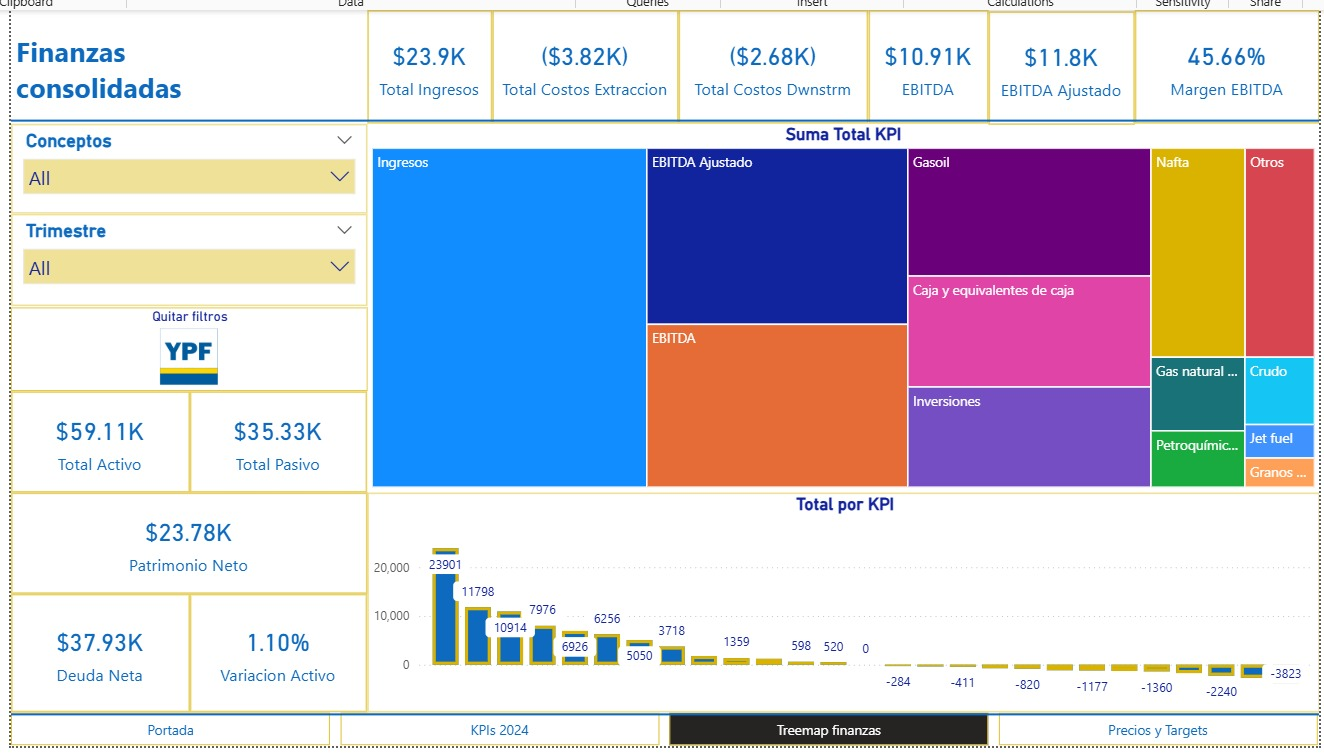

This screenshot's page, from the dashboard's own definition file:
{"tool":"powerbi","page":{"name":"Treemap finanzas","canvas":[1280,720],"ordinal":2},"visuals":[{"type":"pageNavigator","box":[0,687.4,1280,32.6],"z":0},{"type":"textbox","box":[0,0,205.4,111.3],"z":1000},{"type":"treemap","title":"Suma Total KPI","fields":{"Group":["Cifras finacieras consolidadas.Resumen Consolidado Resultados"],"Values":["Sum(Cifras finacieras consolidadas.Value)"]},"box":[348.5,111.3,931.8,360.7],"z":2000},{"type":"card","fields":{"Values":["Measures (2).Total Ingresos"]},"box":[348.5,0,122.3,111.3],"z":3000},{"type":"card","fields":{"Values":["Measures (2).Total Costos"]},"box":[470.8,0,182.2,111.3],"z":4000},{"type":"card","fields":{"Values":["Measures (2).Total Costos Downstream"]},"box":[653,0,185.9,111.3],"z":5000},{"type":"card","fields":{"Values":["Measures (2).EBITDA"]},"box":[838.9,0,117.4,111.3],"z":6000},{"type":"clusteredColumnChart","title":"Total por KPI","fields":{"Category":["Cifras finacieras consolidadas.Resumen Consolidado Resultados"],"Y":["Sum(Cifras finacieras consolidadas.Value)"]},"box":[358.3,472,922,215.2],"z":7000},{"type":"card","fields":{"Values":["Balance General.Total Activo"]},"box":[0,373,174.9,99],"z":8000},{"type":"card","fields":{"Values":["Balance General.Total Pasivo"]},"box":[174.9,373,173.6,99],"z":9000},{"type":"card","fields":{"Values":["Balance General.Patrimonio Neto"]},"box":[0,472,348.5,99],"z":10000},{"type":"card","fields":{"Values":["Measures (2).Deuda Neta"]},"box":[0,571.1,174.9,116.2],"z":11000},{"type":"card","fields":{"Values":["Balance General.Variación Activo 1T25 vs 4T24 %"]},"box":[174.9,571.1,173.6,116.2],"z":12000},{"type":"card","fields":{"Values":["Measures (2).Margen EBITDA %"]},"box":[1099.3,0,181,111.3],"z":13000},{"type":"card","fields":{"Values":["Measures (2).EBITDA Ajustado"]},"box":[956.3,1.2,143.1,111.3],"z":14000},{"type":"slicer","fields":{"Values":["Cifras finacieras consolidadas.Resumen Consolidado Resultados"]},"box":[0,111.3,348.5,88],"z":15000},{"type":"slicer","fields":{"Values":["Cifras finacieras consolidadas.Periodo"]},"box":[0,199.3,348.5,90.5],"z":16000},{"type":"image","title":"Quitar filtros","box":[0,291,348.5,81.9],"z":17000},{"type":"shape","box":[0,94.2,1280.3,28.1],"z":17001},{"type":"shape","box":[0,675,1280.3,28.1],"z":17002}]}

Visuals, with their boxes on the page's 1280x720 design canvas (x1, y1, x2, y2). These are canvas units, not pixel positions in the 1324x754 screenshot, which may show the page scaled, cropped or inside an application window:
pageNavigator: (x1=0, y1=687, x2=1280, y2=720)
textbox: (x1=0, y1=0, x2=205, y2=111)
"Suma Total KPI" treemap: (x1=348, y1=111, x2=1280, y2=472)
card - Measures (2).Total Ingresos: (x1=348, y1=0, x2=471, y2=111)
card - Measures (2).Total Costos: (x1=471, y1=0, x2=653, y2=111)
card - Measures (2).Total Costos Downstream: (x1=653, y1=0, x2=839, y2=111)
card - Measures (2).EBITDA: (x1=839, y1=0, x2=956, y2=111)
"Total por KPI" clusteredColumnChart: (x1=358, y1=472, x2=1280, y2=687)
card - Balance General.Total Activo: (x1=0, y1=373, x2=175, y2=472)
card - Balance General.Total Pasivo: (x1=175, y1=373, x2=348, y2=472)
card - Balance General.Patrimonio Neto: (x1=0, y1=472, x2=348, y2=571)
card - Measures (2).Deuda Neta: (x1=0, y1=571, x2=175, y2=687)
card - Balance General.Variación Activo 1T25 vs 4T24 %: (x1=175, y1=571, x2=348, y2=687)
card - Measures (2).Margen EBITDA %: (x1=1099, y1=0, x2=1280, y2=111)
card - Measures (2).EBITDA Ajustado: (x1=956, y1=1, x2=1099, y2=112)
slicer - Cifras finacieras consolidadas.Resumen Consolidado Resultados: (x1=0, y1=111, x2=348, y2=199)
slicer - Cifras finacieras consolidadas.Periodo: (x1=0, y1=199, x2=348, y2=290)
"Quitar filtros" image: (x1=0, y1=291, x2=348, y2=373)
shape: (x1=0, y1=94, x2=1280, y2=122)
shape: (x1=0, y1=675, x2=1280, y2=703)
